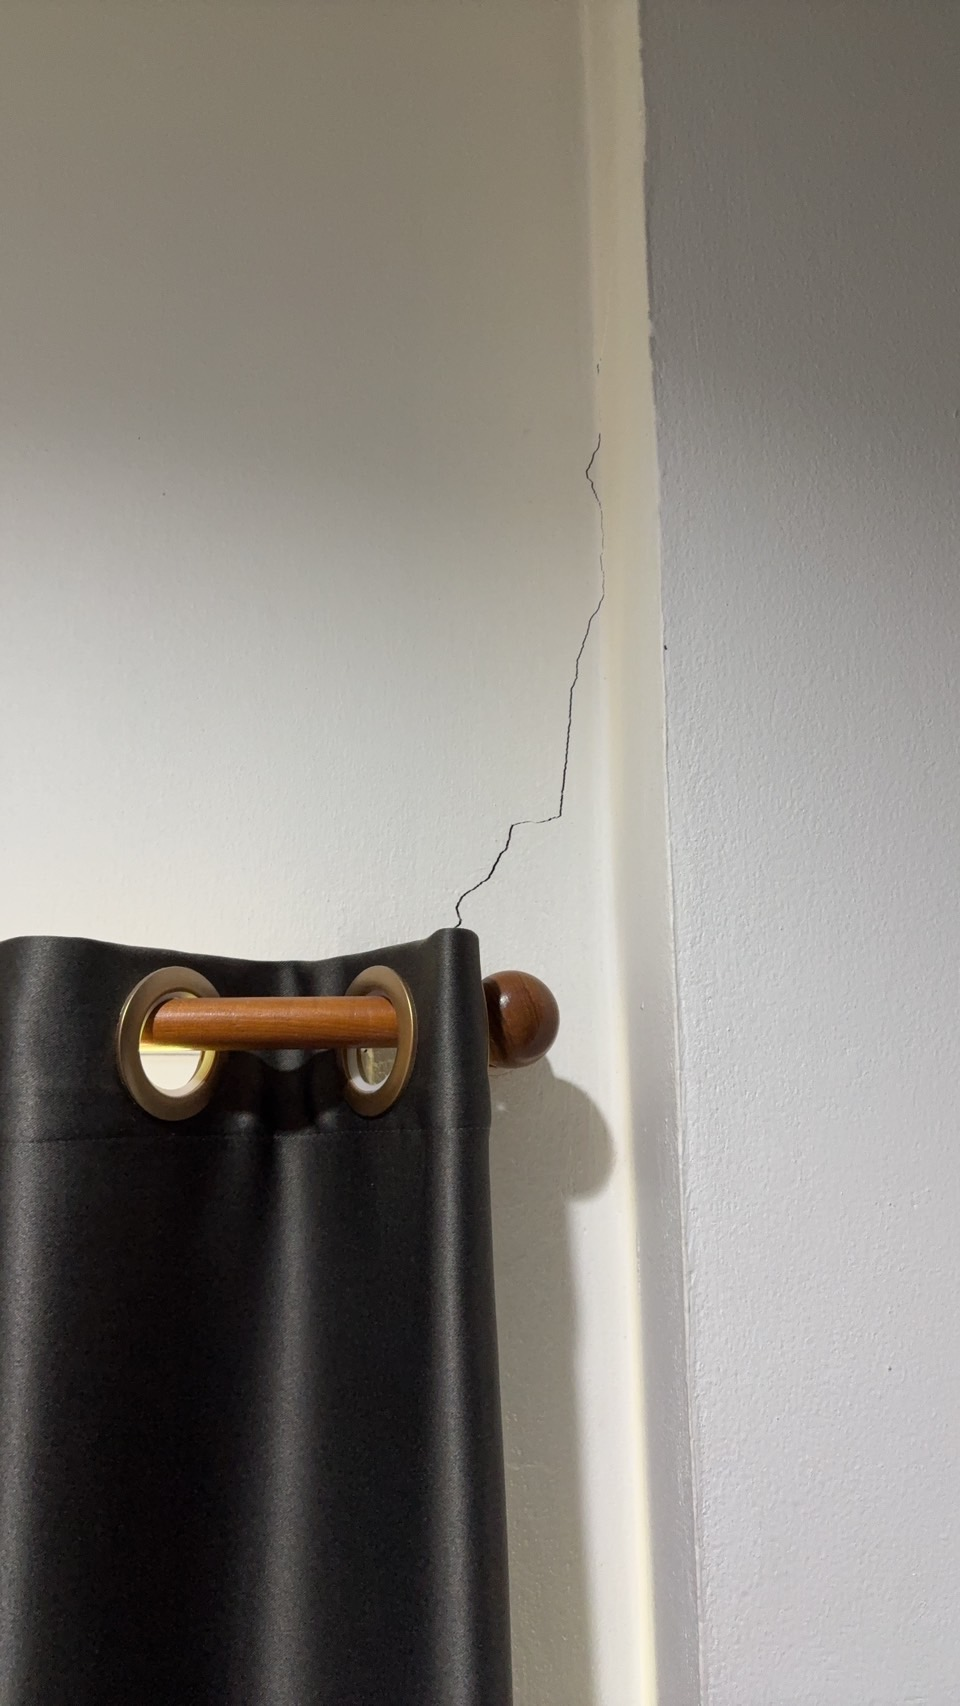Low: (440, 277, 719, 934)
